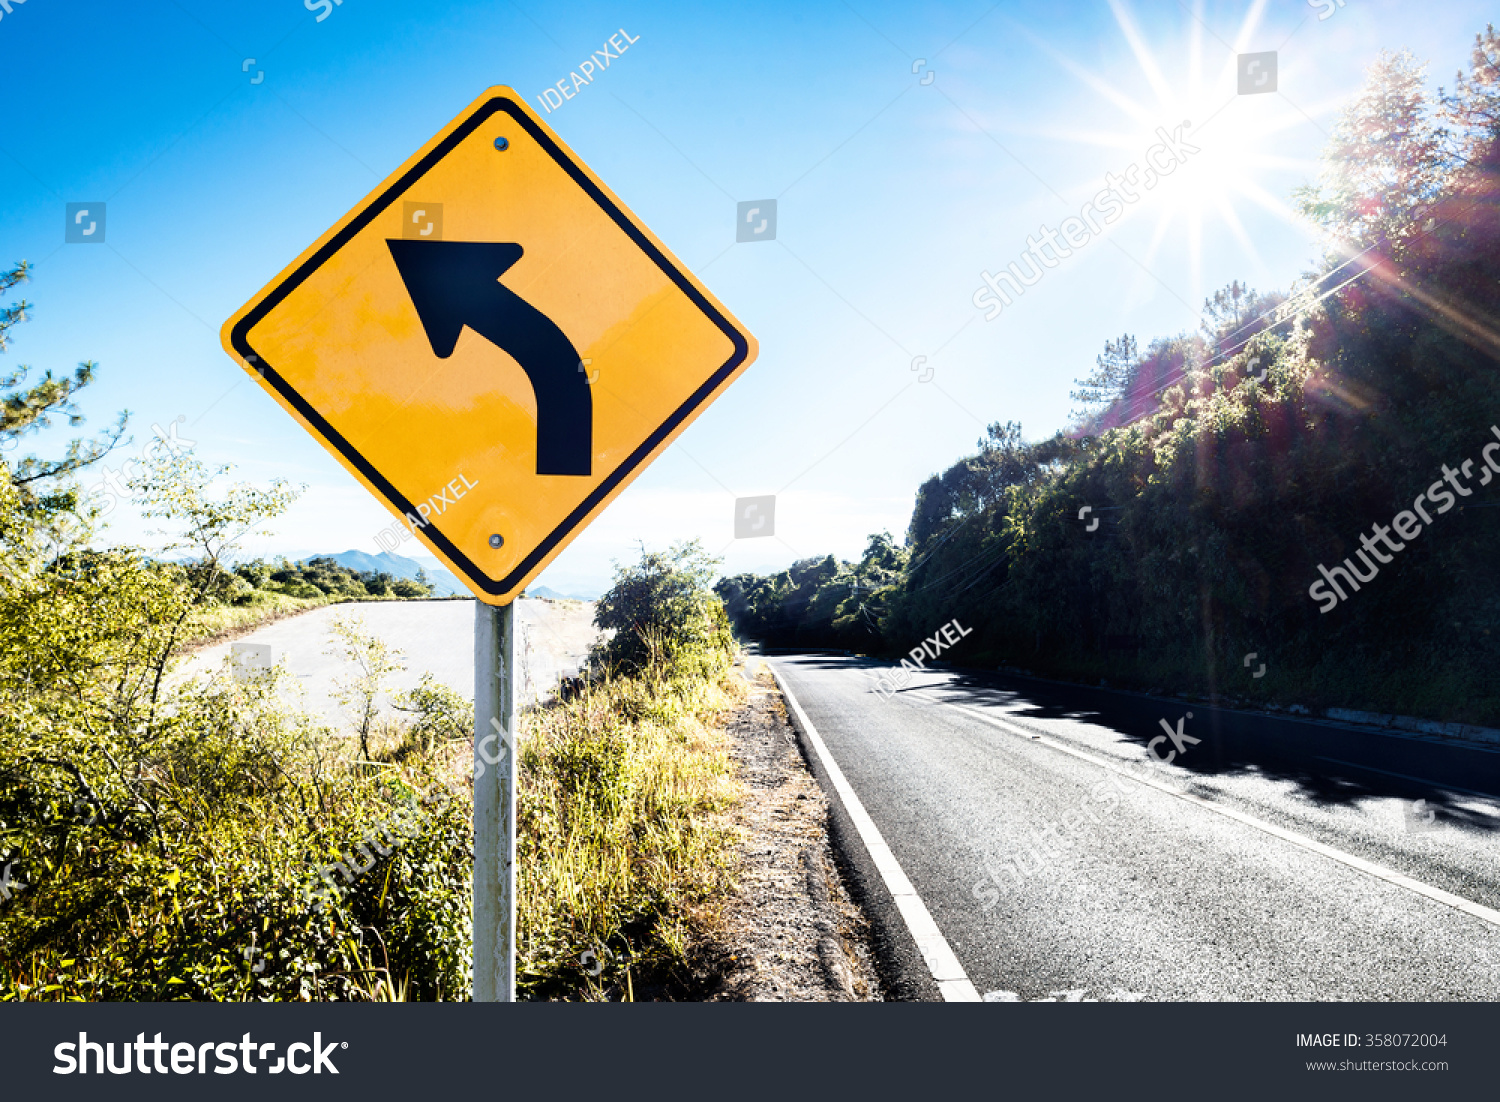left: (219, 82, 778, 610)
